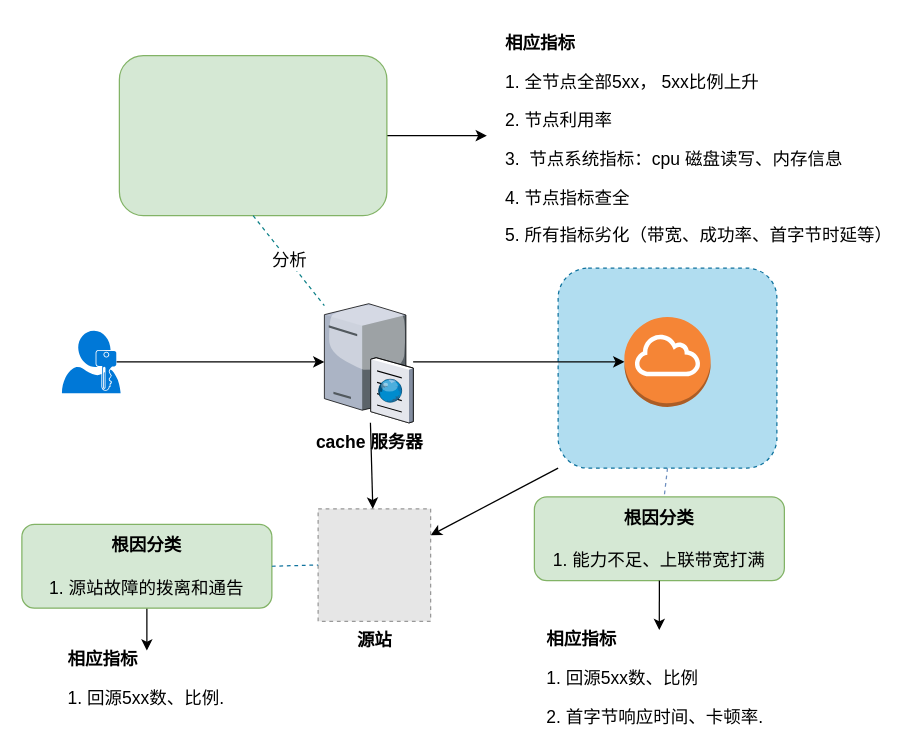
The diagram is 921 pixels wide and 755 high, and some of its shapes have lost their labels. Grey dashed boxes stand in for pictures. The box of each missing label's shape, as (x1, y1, x2, y2) in pixels:
内容中心: (623, 316, 711, 407)
根因分类 1. 程序bug: nginx置ats为不可用 2. 带宽超容量 3. 磁盘读写溢出 4. 主机失联、重启 5. 配置错误: (118, 54, 387, 216)
